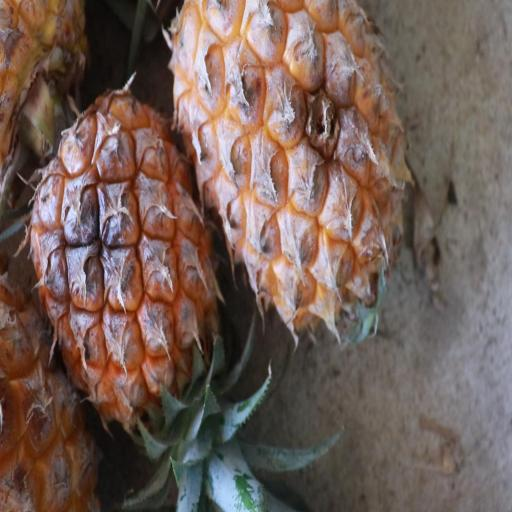Pineapple - v8 v1: (166, 0, 419, 349), (27, 76, 230, 481)
